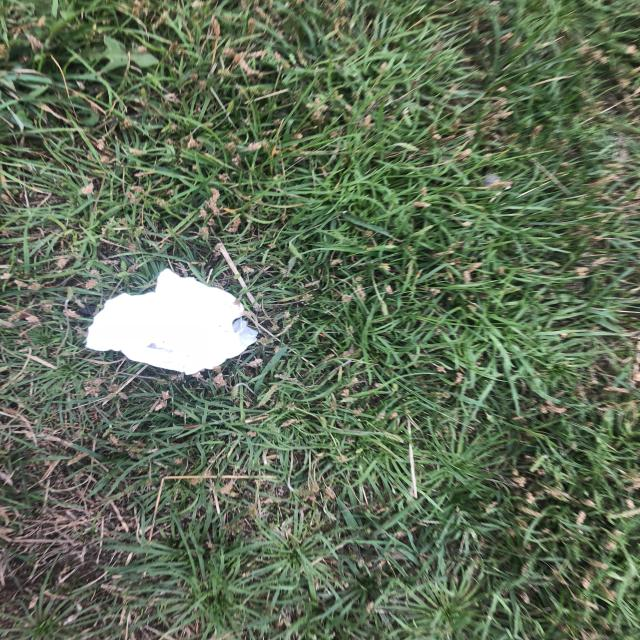litter: (357, 287, 499, 415)
